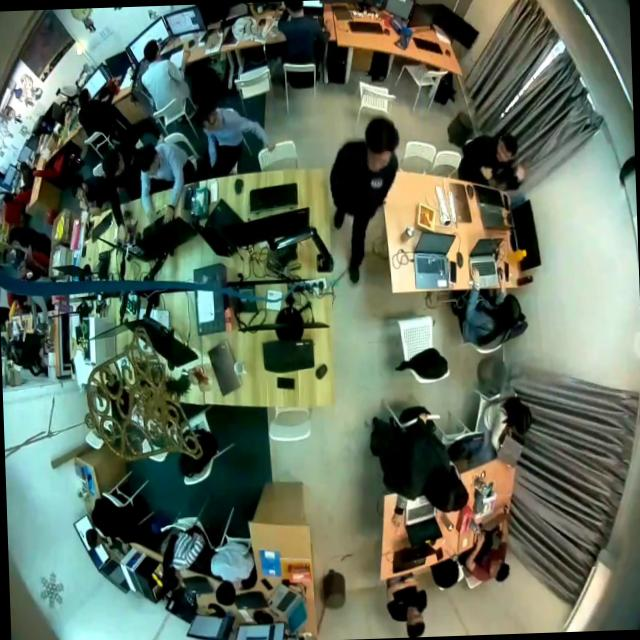employee_tag: (370, 174, 383, 192)
